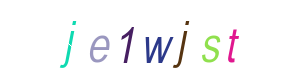1: (106, 0, 186, 80)
E: (88, 0, 168, 80)
J: (29, 0, 109, 80), (142, 0, 222, 80)
S: (171, 0, 251, 80)
T: (192, 0, 272, 80)
W: (107, 0, 187, 80)
